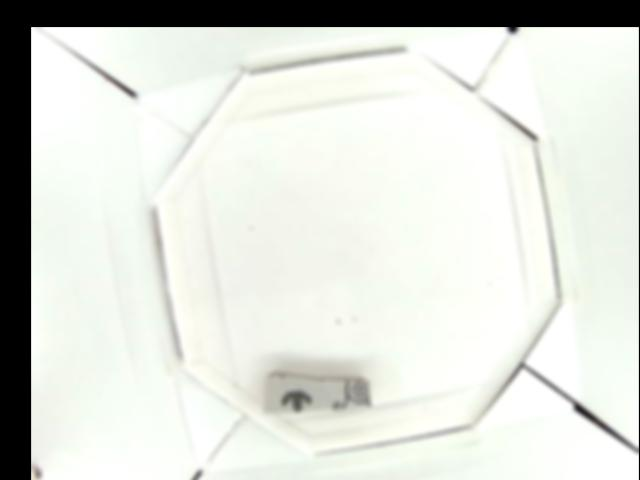China: (263, 372, 372, 412)
